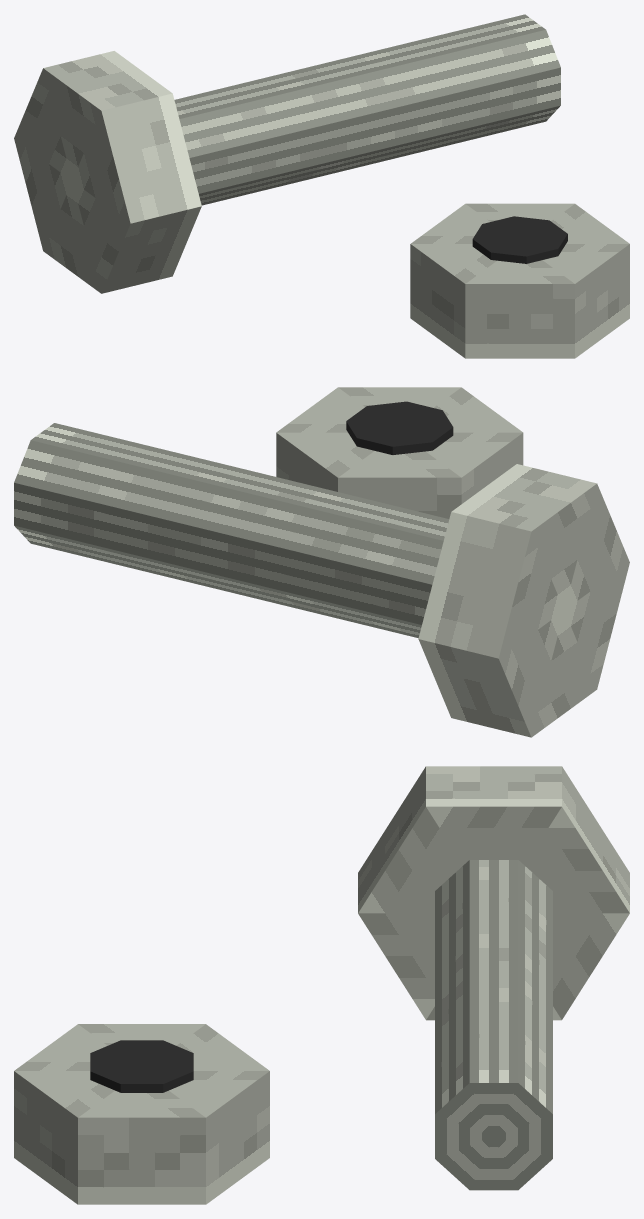
The model's file is nuts_bolts.glb.
3 renders of one model, top to bottom at view 1: azimuth 30°, elevation 25°; view 2: azimuth 150°, elevation 25°; view 3: azimuth 270°, elevation 25°, orthographic. The views are drawn at different scales.
Parts seen in each view (by area): view 1: block_shank, block_head, block_nut, block_hole; view 2: block_shank, block_head, block_nut, block_hole; view 3: block_head, block_shank, block_nut, block_hole.
Boxes of the visible parts, x1=… form: block_shank: x1=174, y1=14, x2=560, y2=205; block_head: x1=14, y1=51, x2=201, y2=293; block_nut: x1=410, y1=203, x2=629, y2=358; block_hole: x1=472, y1=216, x2=567, y2=263; block_shank: x1=14, y1=423, x2=449, y2=638; block_head: x1=418, y1=464, x2=629, y2=737; block_nut: x1=276, y1=387, x2=523, y2=518; block_hole: x1=346, y1=401, x2=453, y2=454; block_head: x1=358, y1=766, x2=629, y2=1020; block_shank: x1=435, y1=860, x2=552, y2=1190; block_nut: x1=14, y1=1024, x2=269, y2=1204; block_hole: x1=90, y1=1040, x2=193, y2=1092.
Bounding box in the file's own units: 0.039 × 0.0154 × 0.0385.
2 materials, 2 textured.
